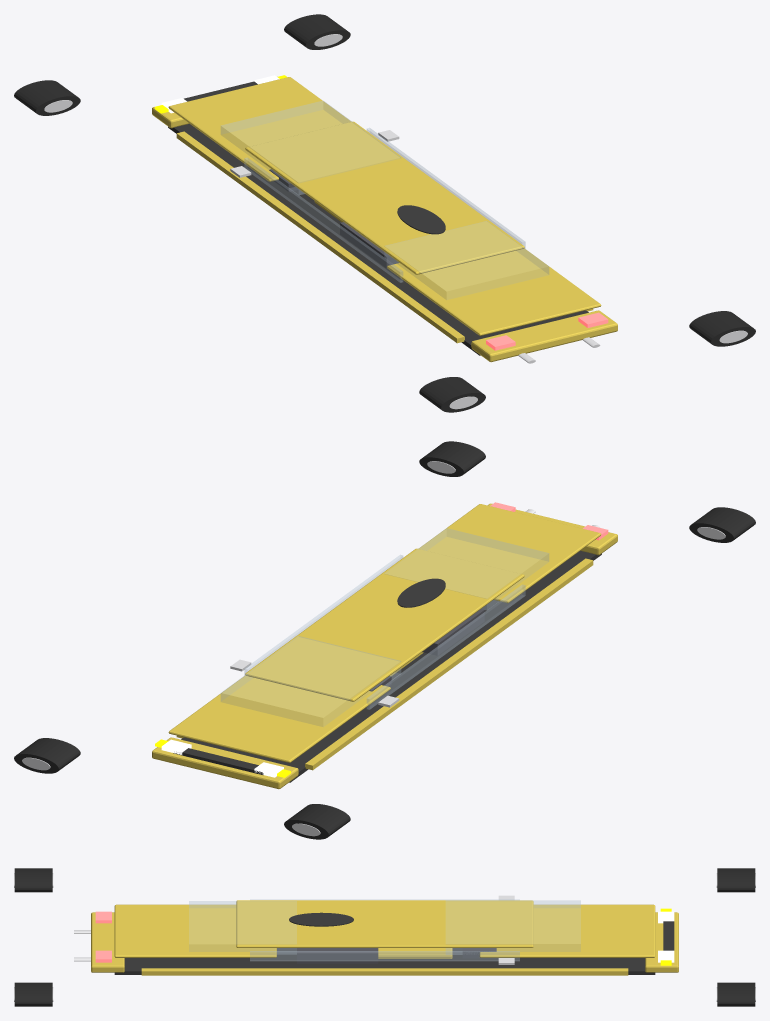
The model's file is truck.glb.
3 renders of one model, top to bottom at view 1: azimuth 30°, elevation 25°; view 2: azimuth 150°, elevation 25°; view 3: azimuth 270°, elevation 25°, orthographic. The views are drawn at different scales.
Visible parts, largest first — view 1: Roof, Trunk, Glass, Hood, RearGlass, Chassis, Skirt_L, Bumper_R, SideGlass_L, Wheel_FR, Wheel_FL, Wheel_RR (+4 smaller); view 2: Roof, Hood, Glass, Trunk, RearGlass, Chassis, Skirt_L, Bumper_F, SideGlass_L, Wheel_RR, Wheel_RL, Wheel_FR (+6 smaller); view 3: Roof, Hood, Trunk, Glass, Chassis, RearGlass, Skirt_R, SideGlass_R, Seat_R, Bumper_R, Wheel_FL, Wheel_FR (+8 smaller).
Part boxes in pixels (bbox=[...]): Roof: bbox=[245, 121, 524, 274]; Trunk: bbox=[387, 248, 601, 335]; Glass: bbox=[221, 101, 400, 194]; Hood: bbox=[168, 77, 351, 181]; RearGlass: bbox=[384, 221, 548, 299]; Chassis: bbox=[168, 123, 588, 355]; Skirt_L: bbox=[176, 131, 464, 343]; Bumper_R: bbox=[471, 310, 617, 362]; SideGlass_L: bbox=[244, 157, 402, 282]; Wheel_FR: bbox=[284, 14, 350, 49]; Wheel_FL: bbox=[14, 80, 80, 115]; Wheel_RR: bbox=[689, 311, 755, 346]; Roof: bbox=[245, 548, 524, 701]; Hood: bbox=[168, 675, 390, 762]; Glass: bbox=[221, 636, 400, 726]; Trunk: bbox=[418, 504, 601, 603]; RearGlass: bbox=[384, 528, 548, 609]; Chassis: bbox=[181, 550, 601, 782]; Skirt_L: bbox=[305, 558, 593, 770]; Bumper_F: bbox=[152, 737, 298, 789]; SideGlass_L: bbox=[367, 584, 525, 709]; Wheel_RR: bbox=[419, 441, 485, 476]; Wheel_RL: bbox=[689, 507, 755, 542]; Wheel_FR: bbox=[14, 738, 80, 773]; Roof: bbox=[236, 900, 533, 947]; Hood: bbox=[479, 904, 655, 957]; Trunk: bbox=[114, 904, 276, 957]; Glass: bbox=[446, 900, 580, 954]; Chassis: bbox=[114, 948, 655, 974]; RearGlass: bbox=[189, 901, 296, 954]; Skirt_R: bbox=[141, 968, 628, 975]; SideGlass_R: bbox=[250, 951, 519, 960]; Seat_R: bbox=[297, 948, 378, 963]; Bumper_R: bbox=[91, 912, 124, 972]; Wheel_FL: bbox=[717, 868, 755, 892]; Wheel_FR: bbox=[717, 982, 755, 1006].
Bounding box in the file's own units: 9.8 × 1.46 × 23.06.
